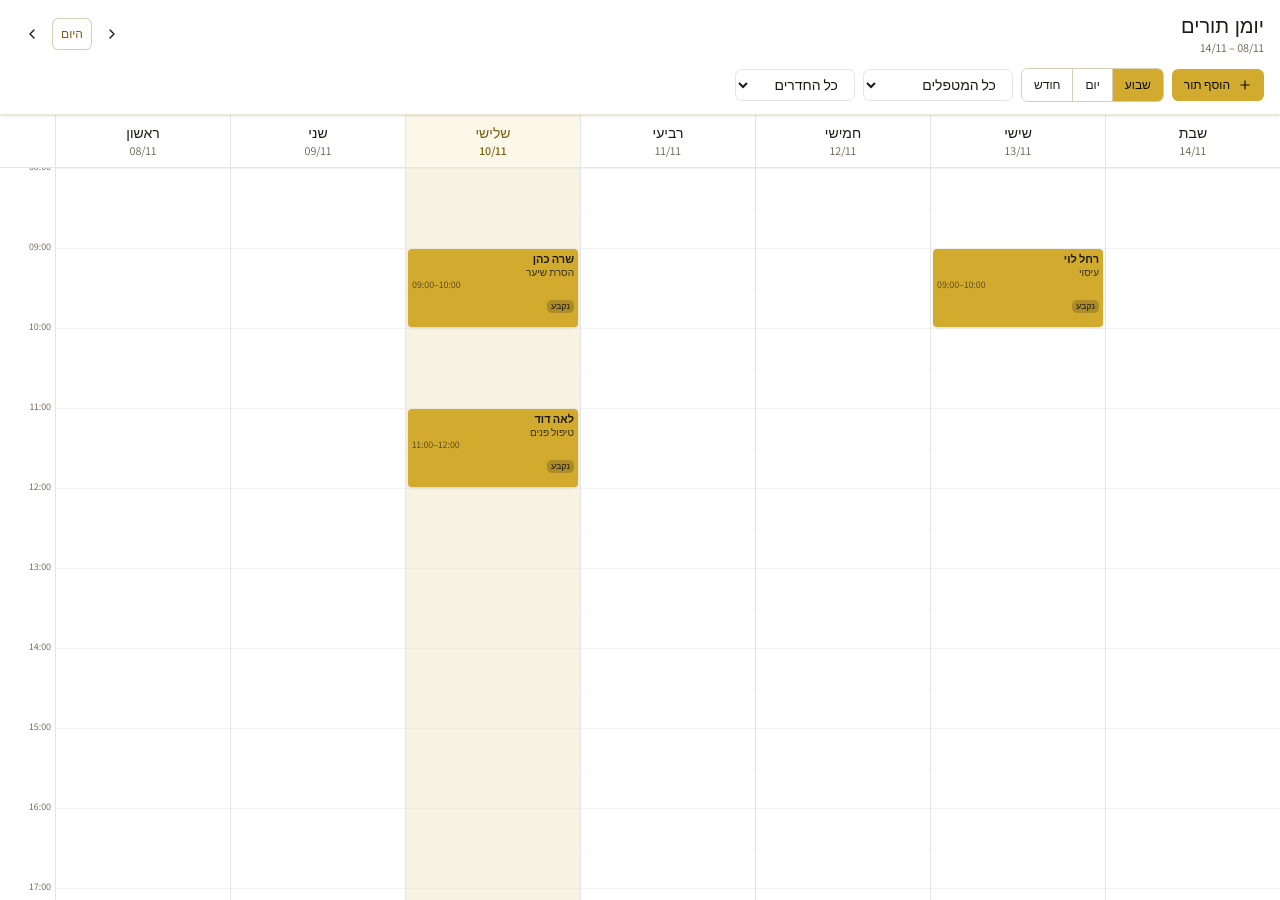
Scenario: 11.11 — ספירת תורים לכל יום בתצוגת חודש › סינון לפי 'מטפלת א' מפחית את ספירת 20/11 ל-0 (אין תורים)
The width and height of the screenshot is (1280, 900).
Click the button with aria-label "תצוגת חודש" at (1047, 85), box [1022,69,1072,101]
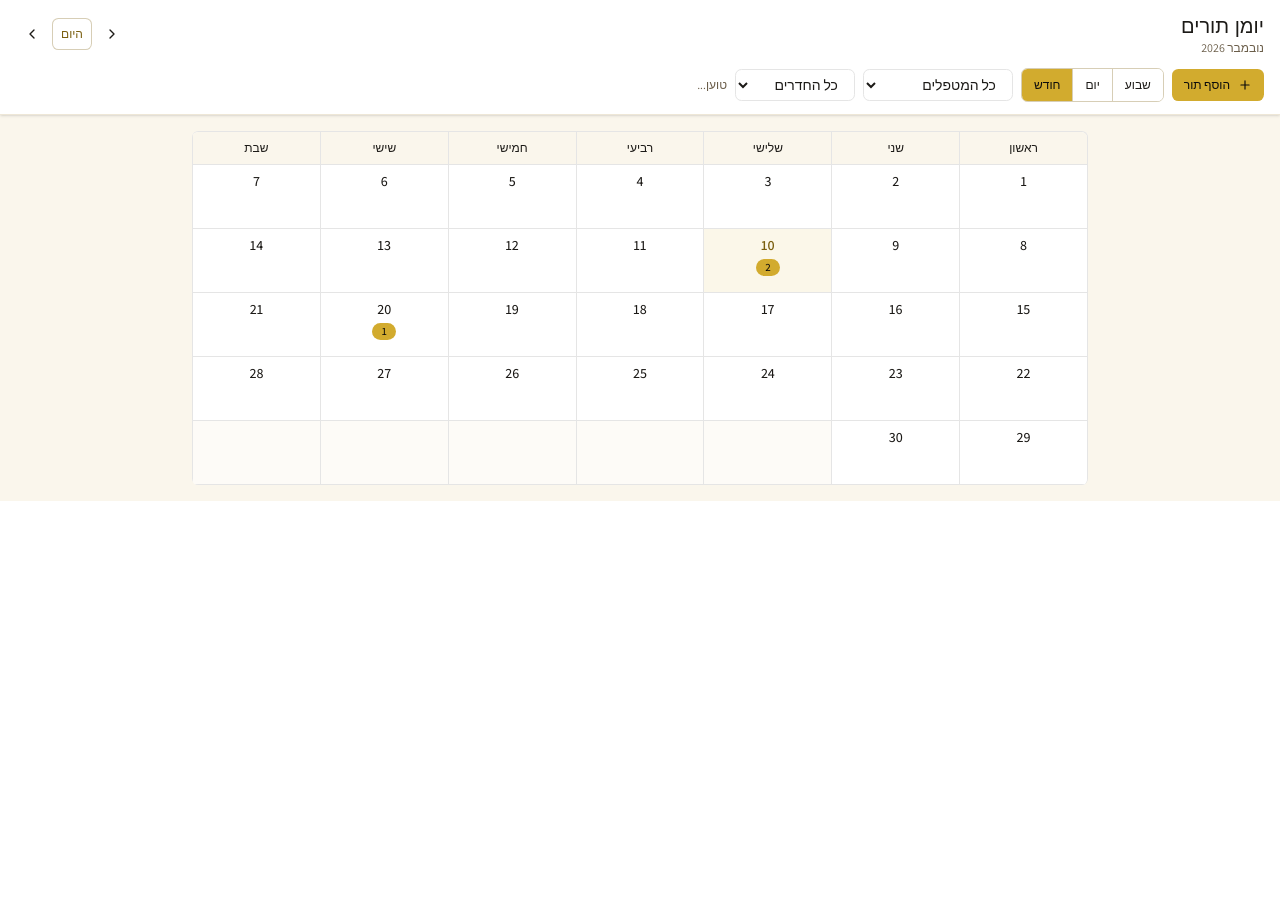
Select "מטפלת א" in the 2nd dropdown named "סינון לפי מטפל/ת" at (938, 85), box [863,69,1013,101]
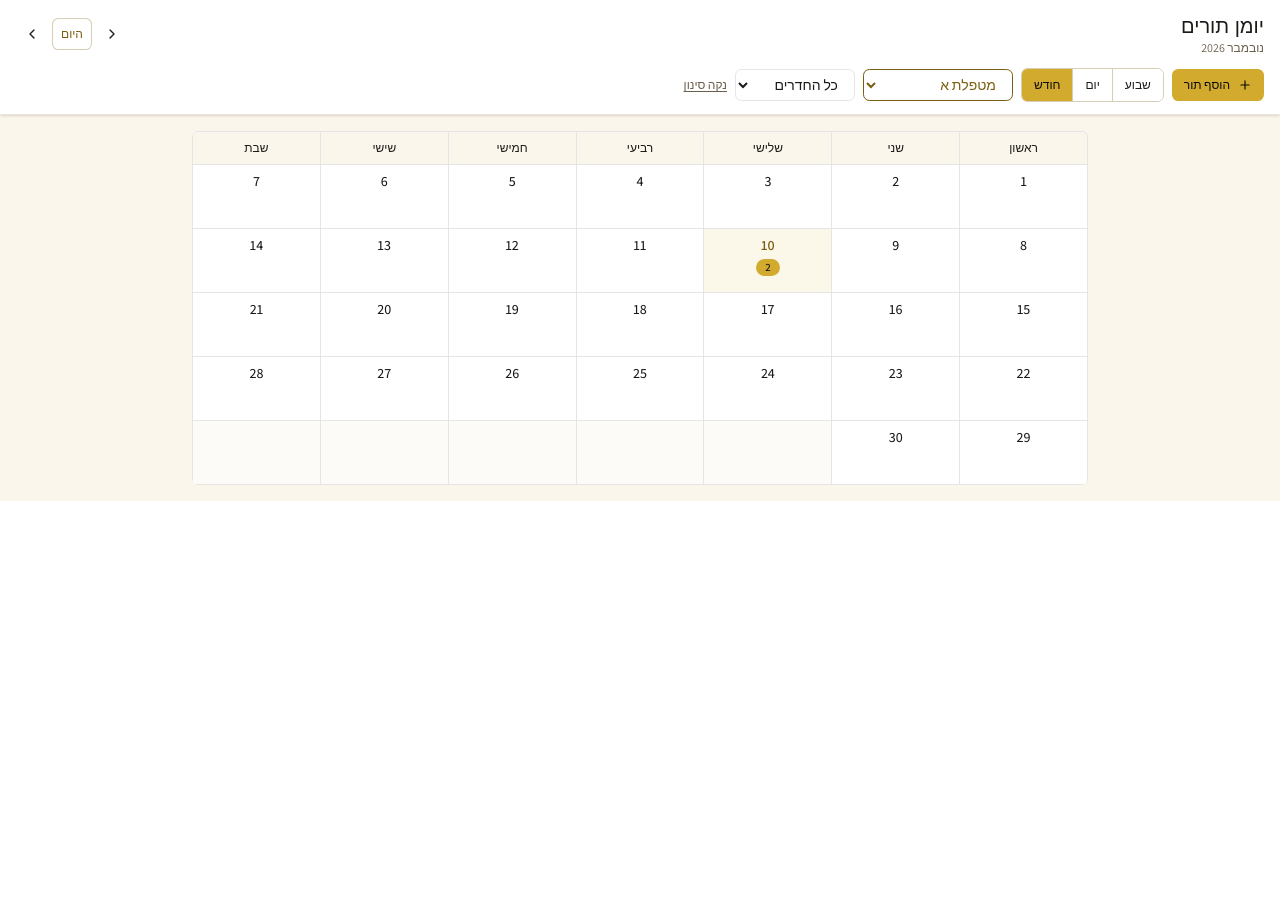
Check: the button named "10/11, 2 תורים" is shown, box [703,229,831,293]
Check: the button named "20/11, אין תורים" is shown, box [320,293,448,357]
